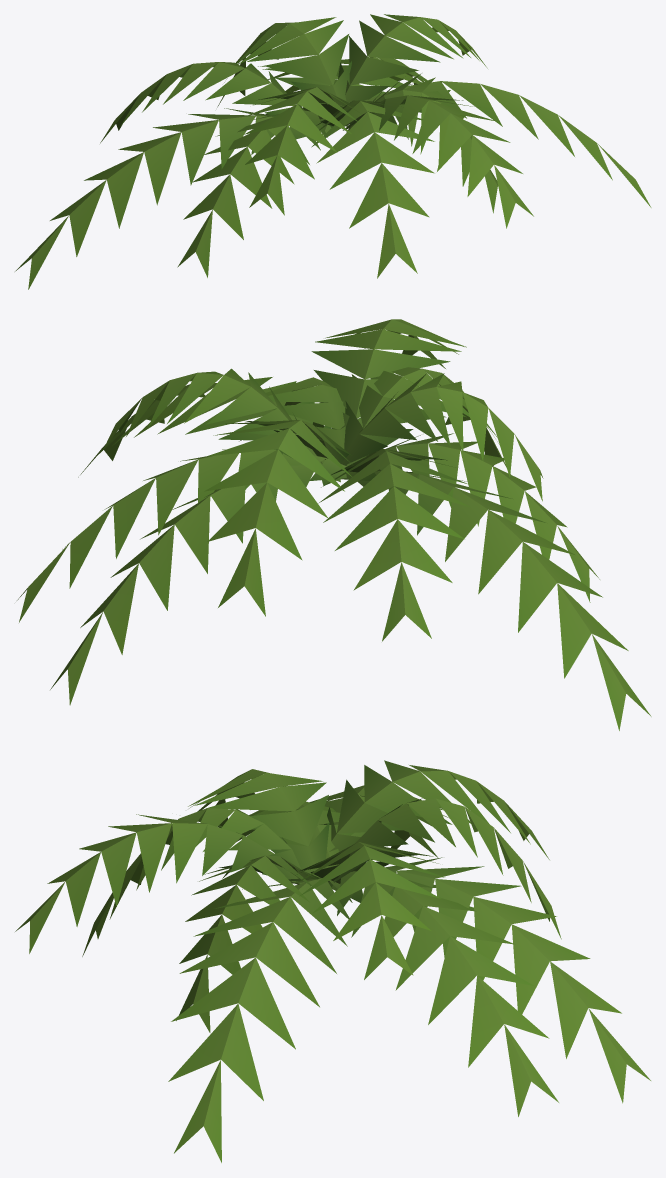
Rendered from fern_a.glb.
The picture shows the model from 3 angles, top to bottom: view 1: azimuth 30°, elevation 25°; view 2: azimuth 150°, elevation 25°; view 3: azimuth 270°, elevation 25°; orthographic projection. The views are drawn at different scales.
Visible parts, largest first — view 1: fern_a_leaf; view 2: fern_a_leaf; view 3: fern_a_leaf.
Part boxes in pixels (x1,y1,x2,y2): fern_a_leaf: (15,14,651,289); fern_a_leaf: (17,319,651,730); fern_a_leaf: (15,760,650,1162).
Bounding box in the file's own units: 1.68 × 0.5703 × 1.4.
